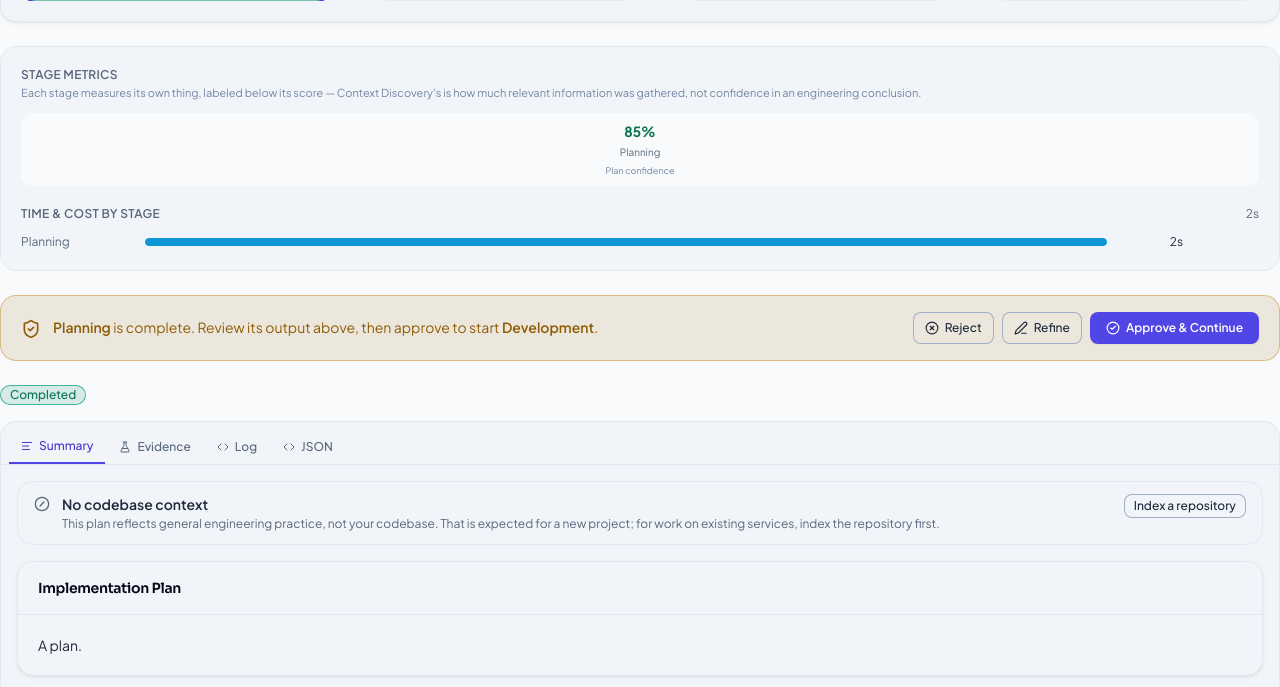
Scenario: WorkflowPage › shows a confirm prompt (not a silent no-op) when continueWorkflow rejects with context_discovery_partial
This screenshot has width=1280, height=687.
(page scrolled)
Step 1. Click the button "Approve & Continue" → click(1174, 328), box [1090,312,1259,344]
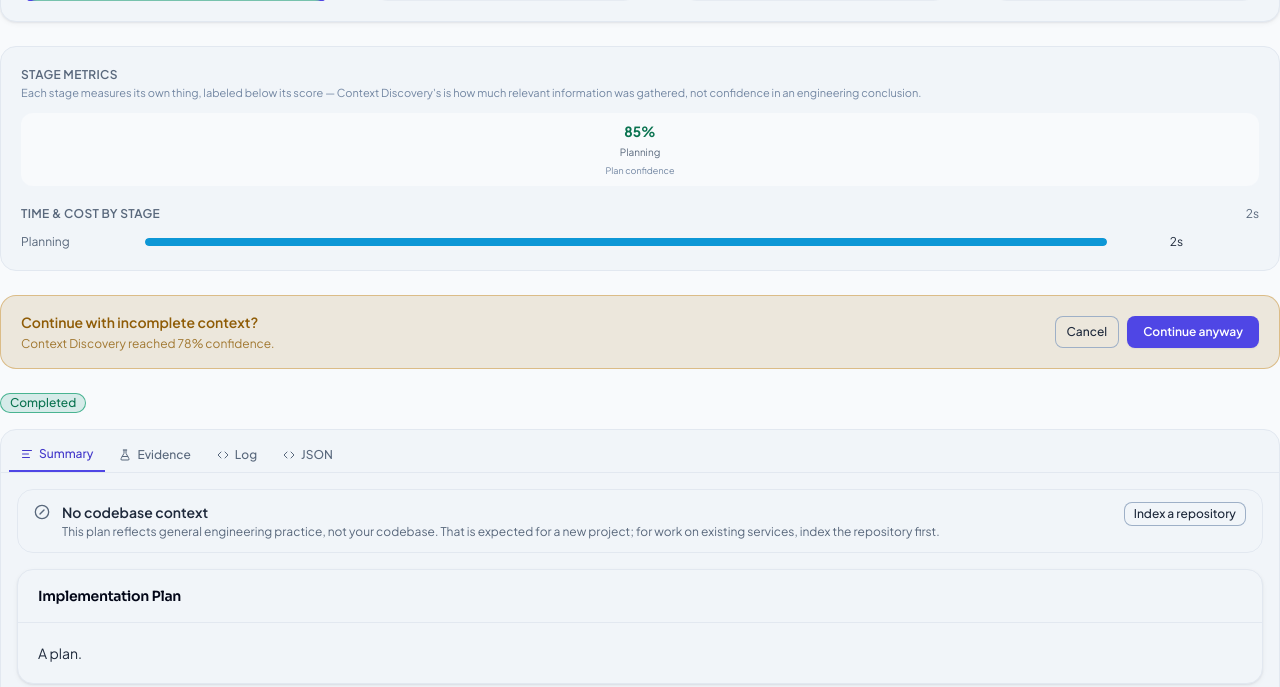
Result: the text "Continue with incomplete context?" is shown at [21,312,275,332]
Result: the text "Context Discovery reached 78% confidence." is shown at [21,336,275,352]
Result: the button "Continue anyway" is shown at [1127,316,1259,348]
